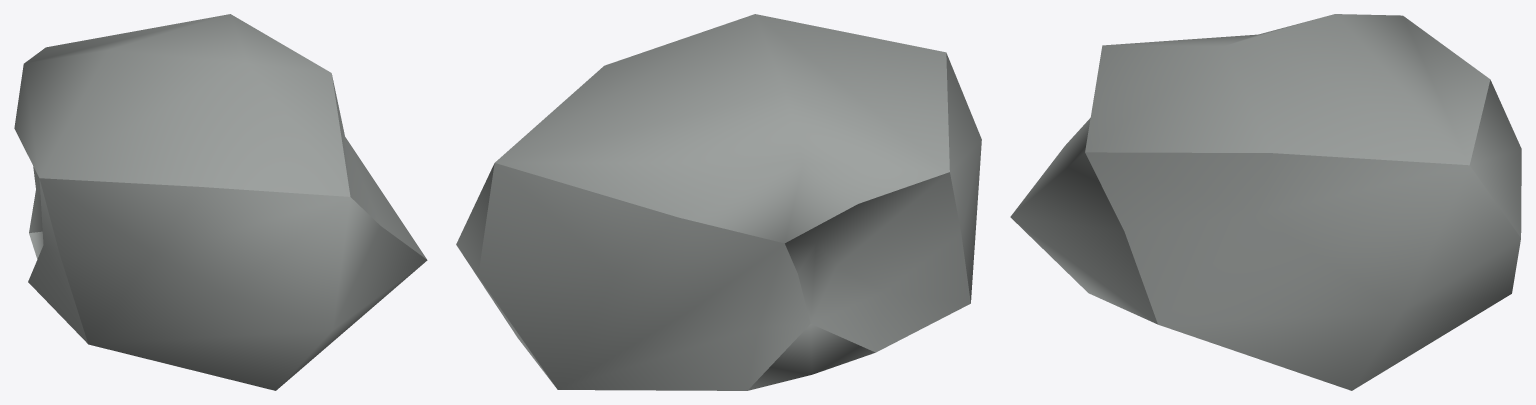
The model's file is tas2.fbx.
3 renders of one model, left to right at view 1: azimuth 30°, elevation 25°; view 2: azimuth 150°, elevation 25°; view 3: azimuth 270°, elevation 25°, orthographic. The views are drawn at different scales.
Parts seen in each view (by area): view 1: tas2; view 2: tas2; view 3: tas2.
Part boxes in pixels (x1,y1,x2,y2): tas2: (14,14,427,390); tas2: (456,14,981,390); tas2: (1010,14,1521,390).
Bounding box in the file's own units: 98.15 × 72.5 × 120.
